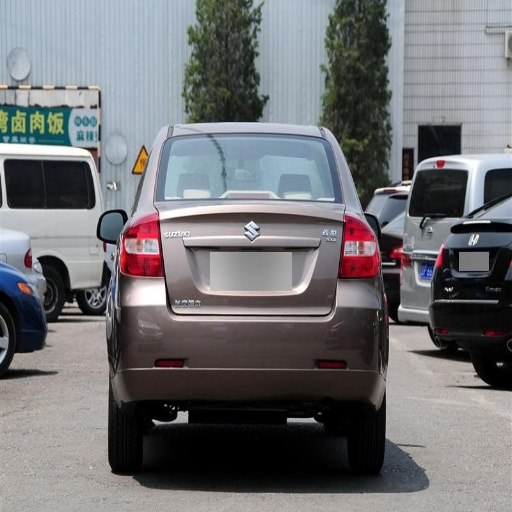back_bumper: (104, 271, 384, 413), (418, 311, 508, 339)
